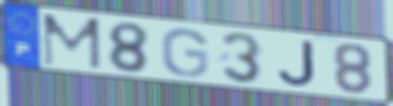3: (215, 31, 267, 85)
8: (104, 21, 151, 75), (331, 41, 374, 95)
G: (159, 27, 211, 79)
J: (277, 39, 319, 88)
M: (40, 12, 104, 71)
